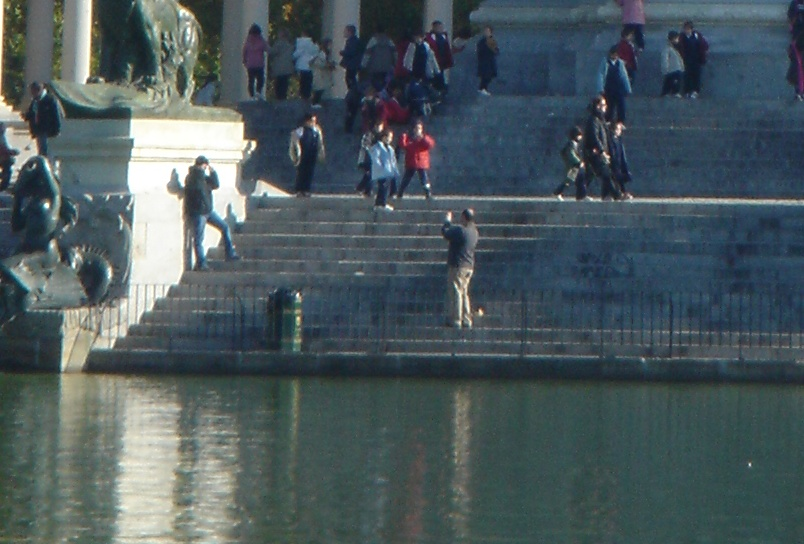person: (179, 153, 226, 273), (576, 89, 624, 203), (441, 202, 483, 327), (283, 110, 328, 197), (397, 117, 436, 203)
